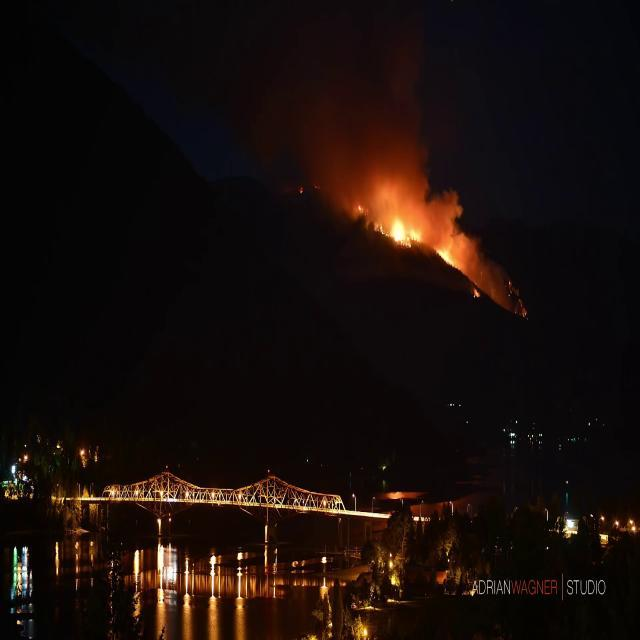Fire: (372, 220, 420, 251), (436, 246, 457, 268), (472, 287, 480, 300), (356, 204, 364, 213), (522, 309, 528, 319), (299, 185, 304, 195)
Smoke: (310, 87, 498, 305)
